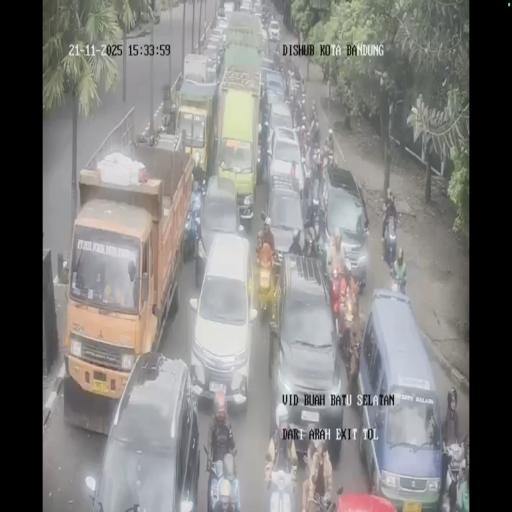car: (356, 289, 442, 505), (88, 352, 200, 508), (268, 256, 342, 456), (322, 166, 370, 288), (195, 173, 245, 279), (263, 181, 306, 269), (267, 125, 304, 196), (263, 68, 286, 109), (202, 41, 224, 76), (260, 53, 274, 74), (268, 19, 280, 41), (260, 26, 268, 58), (216, 5, 228, 22), (260, 3, 270, 22), (240, 0, 252, 12), (253, 9, 263, 22)
motorcycle: (206, 452, 240, 510), (182, 188, 200, 266), (384, 225, 398, 266), (389, 265, 407, 295), (296, 91, 308, 128), (288, 76, 301, 106), (323, 144, 334, 168)
truck: (172, 60, 218, 182), (222, 7, 266, 79)
